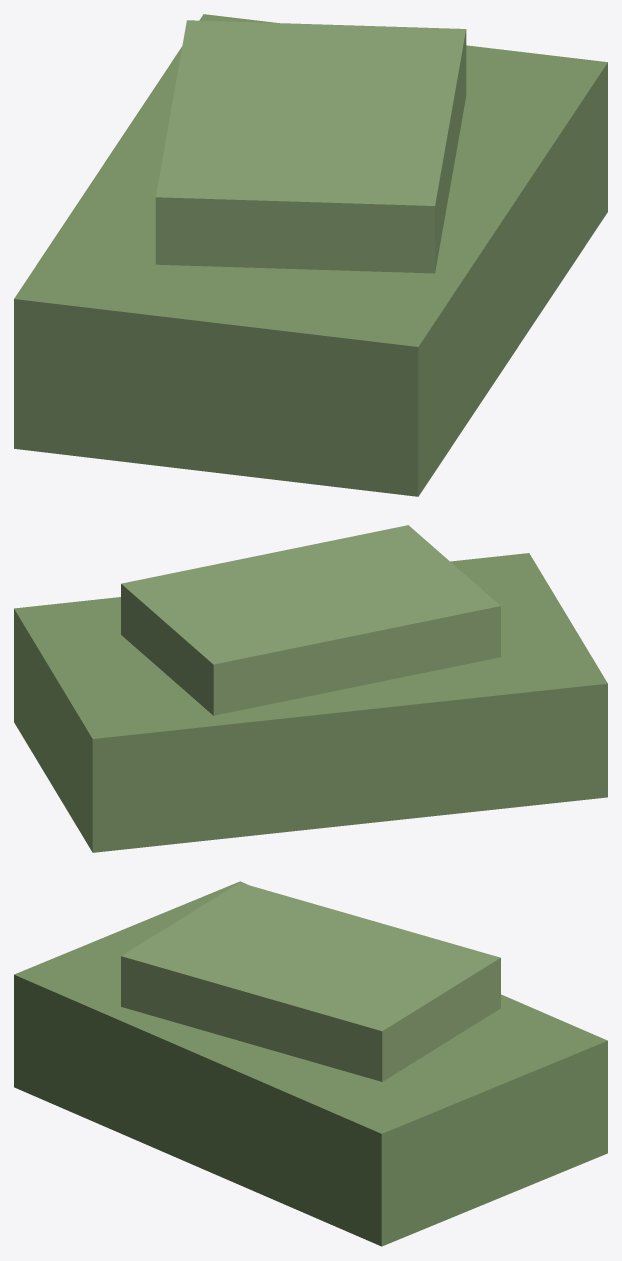
Rendered from structure.glb.
3 renders of one model, top to bottom at view 1: azimuth 30°, elevation 25°; view 2: azimuth 150°, elevation 25°; view 3: azimuth 270°, elevation 25°, orthographic. The views are drawn at different scales.
Visible parts, largest first — view 1: Box1, Box2; view 2: Box1, Box2; view 3: Box1, Box2.
Part boxes in pixels (left/top/right/bottom): Box1: left=14, top=14, right=607, bottom=496; Box2: left=155, top=20, right=466, bottom=273; Box1: left=14, top=553, right=607, bottom=852; Box2: left=121, top=525, right=500, bottom=715; Box1: left=14, top=881, right=607, bottom=1246; Box2: left=121, top=882, right=500, bottom=1081.
Bounding box in the file's own units: 118 × 35.6 × 117.
